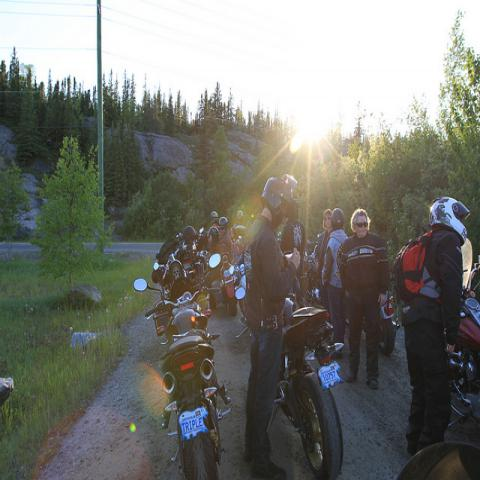motorcycle: (131, 254, 233, 479), (269, 289, 348, 473), (448, 262, 480, 395), (152, 226, 210, 295), (158, 223, 199, 266), (379, 290, 400, 357), (218, 272, 237, 317), (229, 226, 247, 263)
